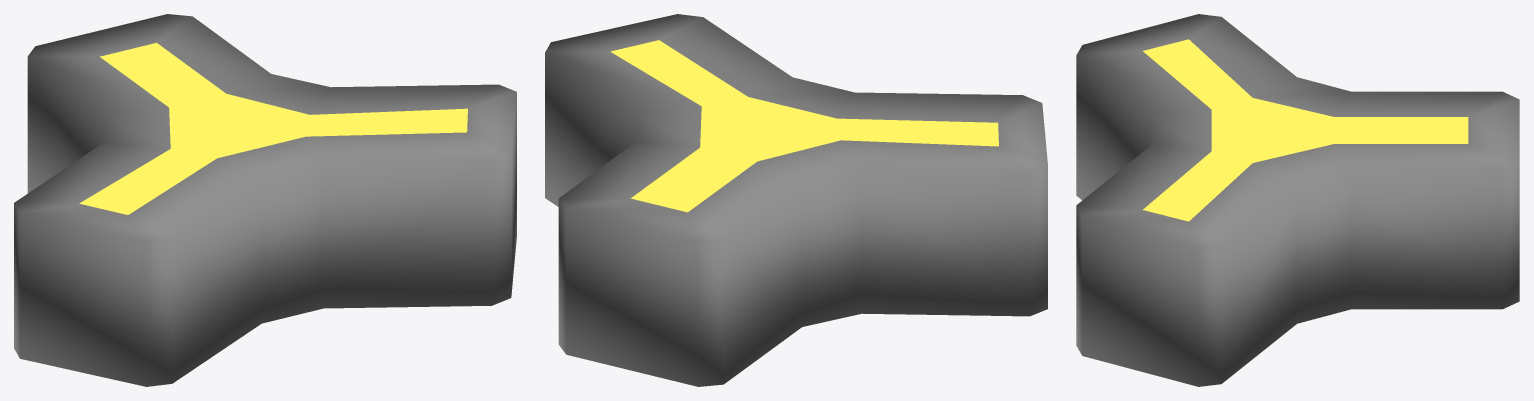
File: Land mine.fbx
The picture shows the model from 3 angles, left to right: view 1: azimuth 30°, elevation 25°; view 2: azimuth 150°, elevation 25°; view 3: azimuth 270°, elevation 25°; orthographic projection. The views are drawn at different scales.
Parts seen in each view (by area): view 1: TriStamp_Laser_1.002; view 2: TriStamp_Laser_1.002; view 3: TriStamp_Laser_1.002.
Part boxes in pixels (<box>): TriStamp_Laser_1.002: <box>14,14,516,386</box>; TriStamp_Laser_1.002: <box>545,14,1047,386</box>; TriStamp_Laser_1.002: <box>1076,14,1519,386</box>.
Bounding box in the file's own units: 68.43 × 19.18 × 55.06.
